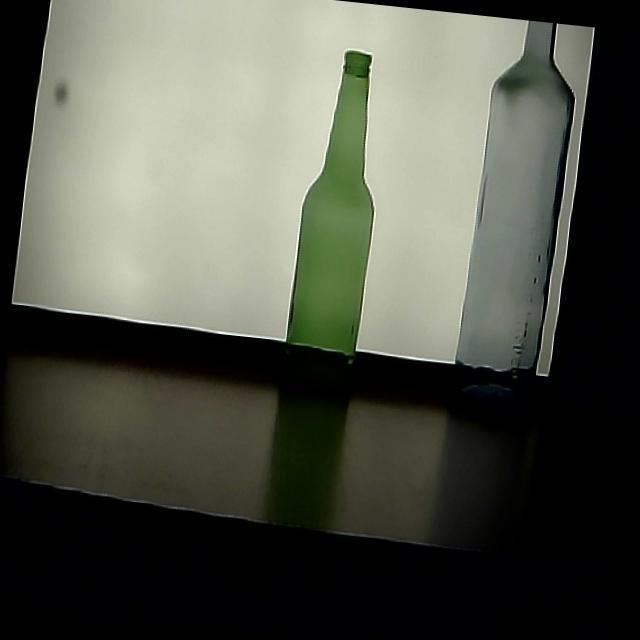Glass: (445, 20, 576, 428), (276, 50, 377, 405)
